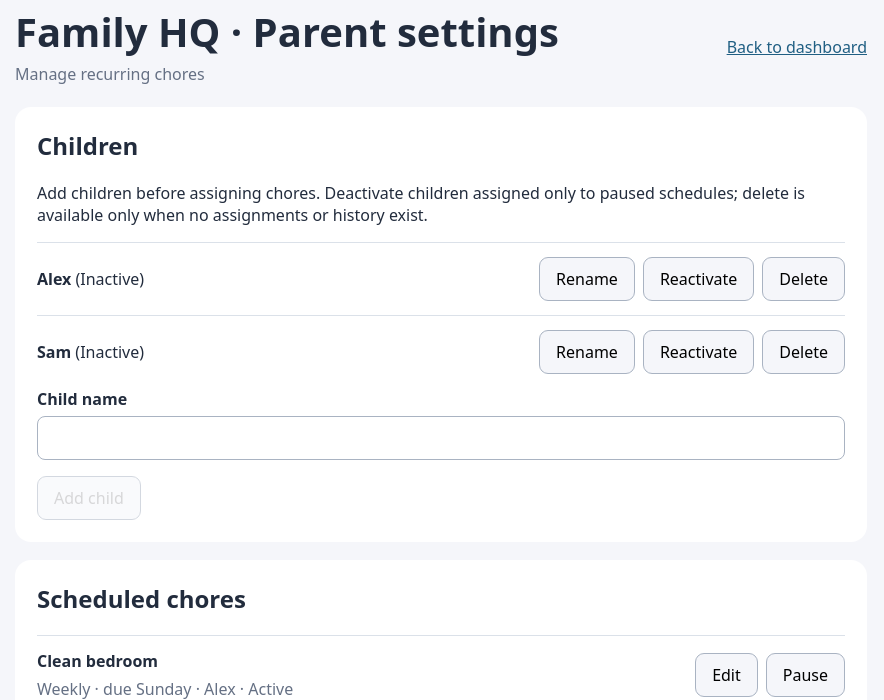
Test case: parent settings › opens existing schedules with saved assignments and flexible deadline
Click the button "Edit" at (726, 675), box left=695, top=653, right=758, bottom=697
(page scrolled)
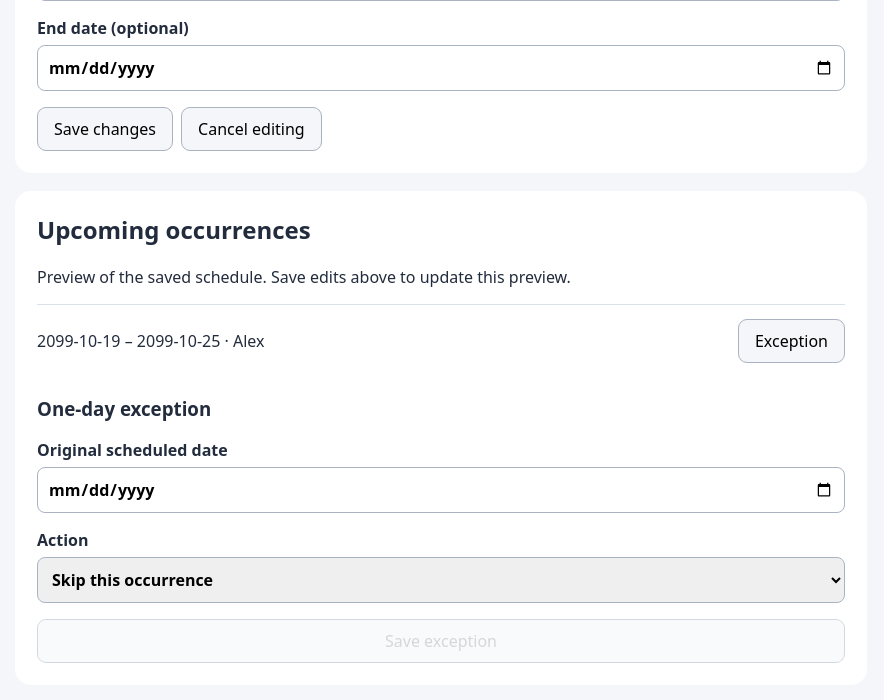
Expected: the text "2099-10-19 – 2099-10-25 · Alex" is shown, left=37, top=330, right=264, bottom=352
